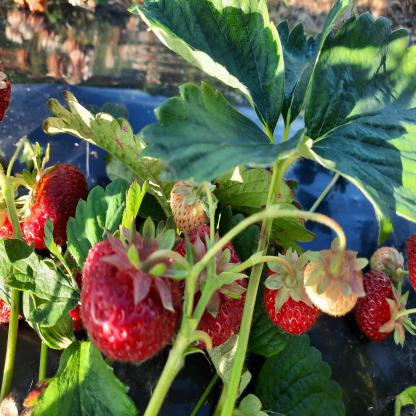ripe: (85, 242, 170, 362), (162, 241, 244, 350), (20, 165, 89, 247), (268, 261, 314, 333), (353, 272, 396, 334)
unripe: (306, 246, 364, 315), (167, 185, 208, 232), (374, 252, 407, 278)
